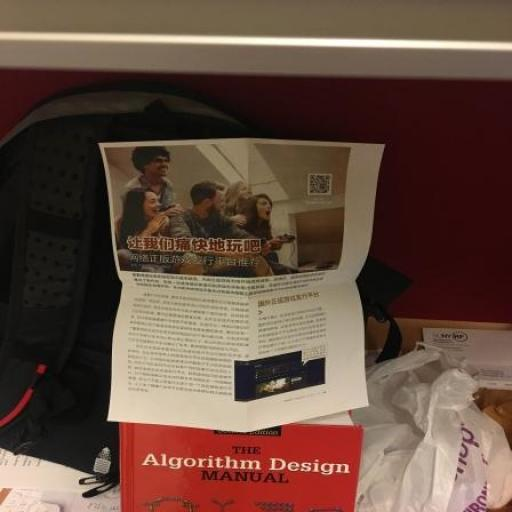paper: (56, 113, 427, 428)
